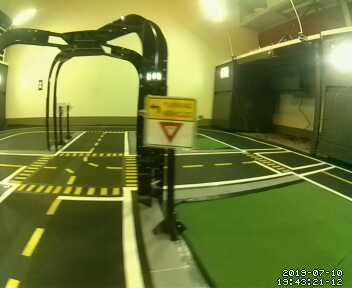Turn Yield: (143, 90, 195, 150)
